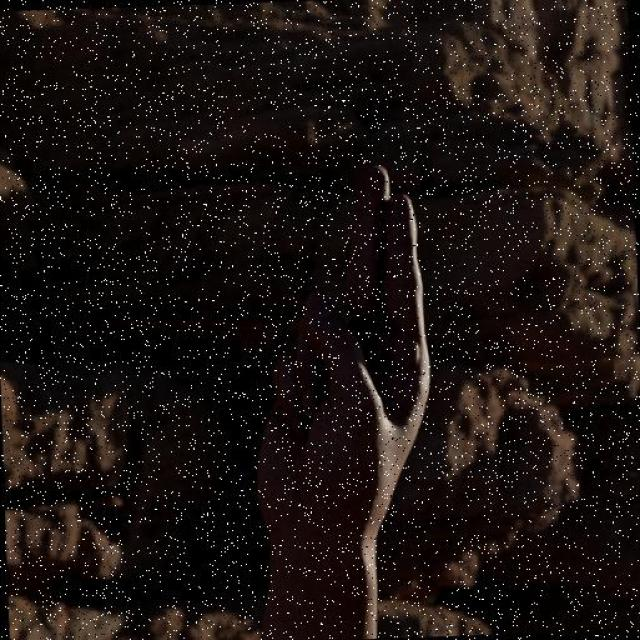U: (240, 154, 439, 536)
